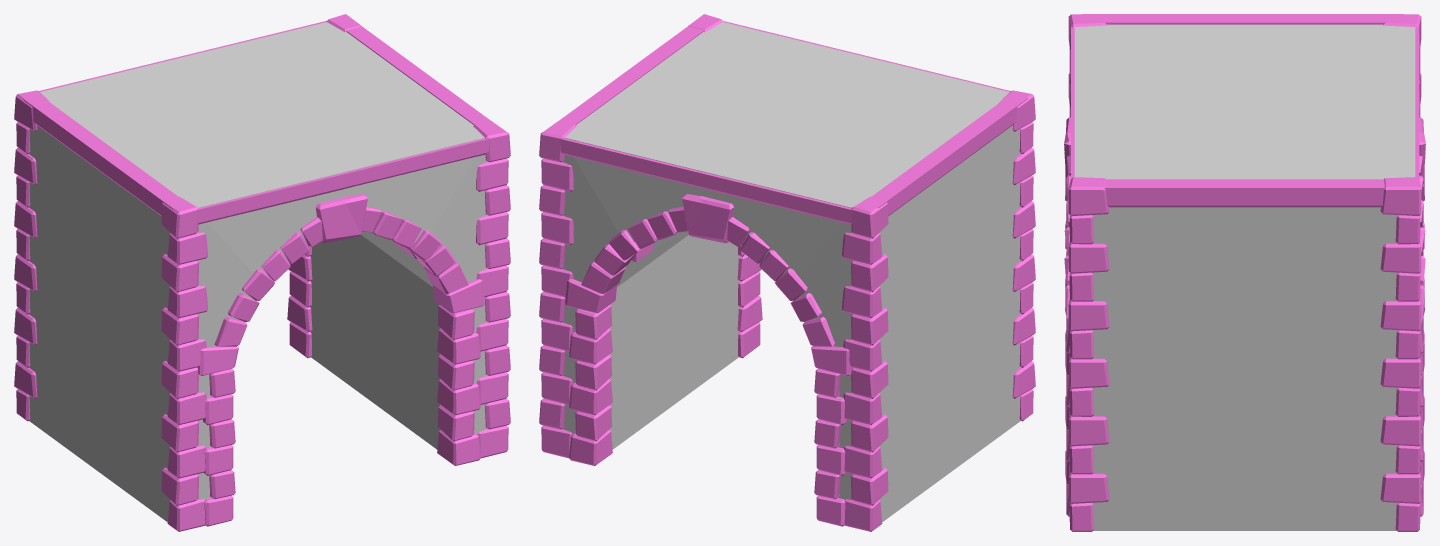
The model's file is SM_Gate_Bottom_Big_Fantasy.fbx.
The picture shows the model from 3 angles, left to right: view 1: azimuth 30°, elevation 25°; view 2: azimuth 150°, elevation 25°; view 3: azimuth 270°, elevation 25°; orthographic projection. The views are drawn at different scales.
Visible parts, largest first — view 1: SM_Gate_Bottom_Big_Fantasy; view 2: SM_Gate_Bottom_Big_Fantasy; view 3: SM_Gate_Bottom_Big_Fantasy.
Part boxes in pixels (box(x1,y1,x2,y2)): SM_Gate_Bottom_Big_Fantasy: box(14, 14, 510, 531); SM_Gate_Bottom_Big_Fantasy: box(539, 14, 1035, 531); SM_Gate_Bottom_Big_Fantasy: box(1064, 14, 1425, 531).
Bounding box in the file's own units: 6.61 × 6.04 × 5.73.
